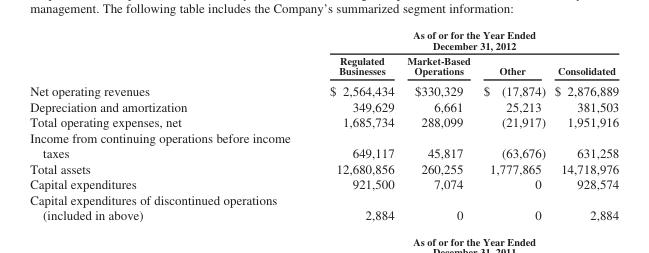table: (29, 28, 618, 221)
table column: (29, 28, 309, 221), (309, 28, 400, 221), (400, 28, 476, 221), (476, 28, 549, 221), (549, 28, 618, 221)
table column header: (29, 28, 618, 80)
table row: (29, 129, 618, 160), (29, 191, 618, 221), (29, 52, 618, 80), (29, 28, 618, 52), (29, 80, 618, 98), (29, 113, 618, 129), (29, 160, 618, 176), (29, 98, 618, 113), (29, 176, 618, 191)
table spanning cell: (309, 28, 618, 52)
